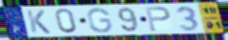0: (54, 8, 78, 34)
3: (175, 5, 200, 32)
9: (117, 7, 140, 33)
G: (86, 7, 114, 34)
K: (25, 9, 52, 35)
P: (144, 6, 173, 32)
